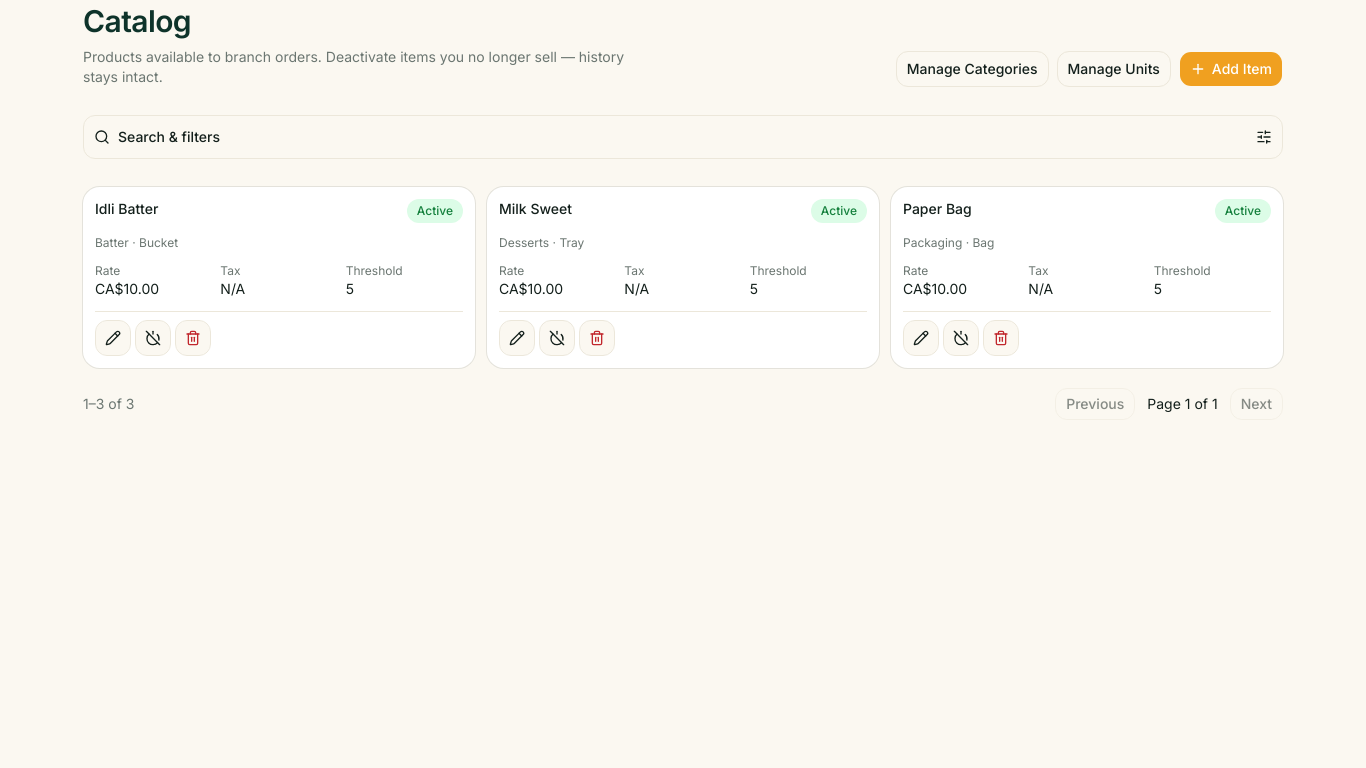
Scenario: compact catalog cards keep direct actions and filter state at 390px
Expected: the heading "Idli Batter" is shown, [95, 198, 158, 218]
Expected: the number of buttons named "Edit" is 3, [95, 320, 131, 356]; [499, 320, 535, 356]; [903, 320, 939, 356]
Click the button "Search & filters" at (169, 136), box [83, 114, 1283, 158]
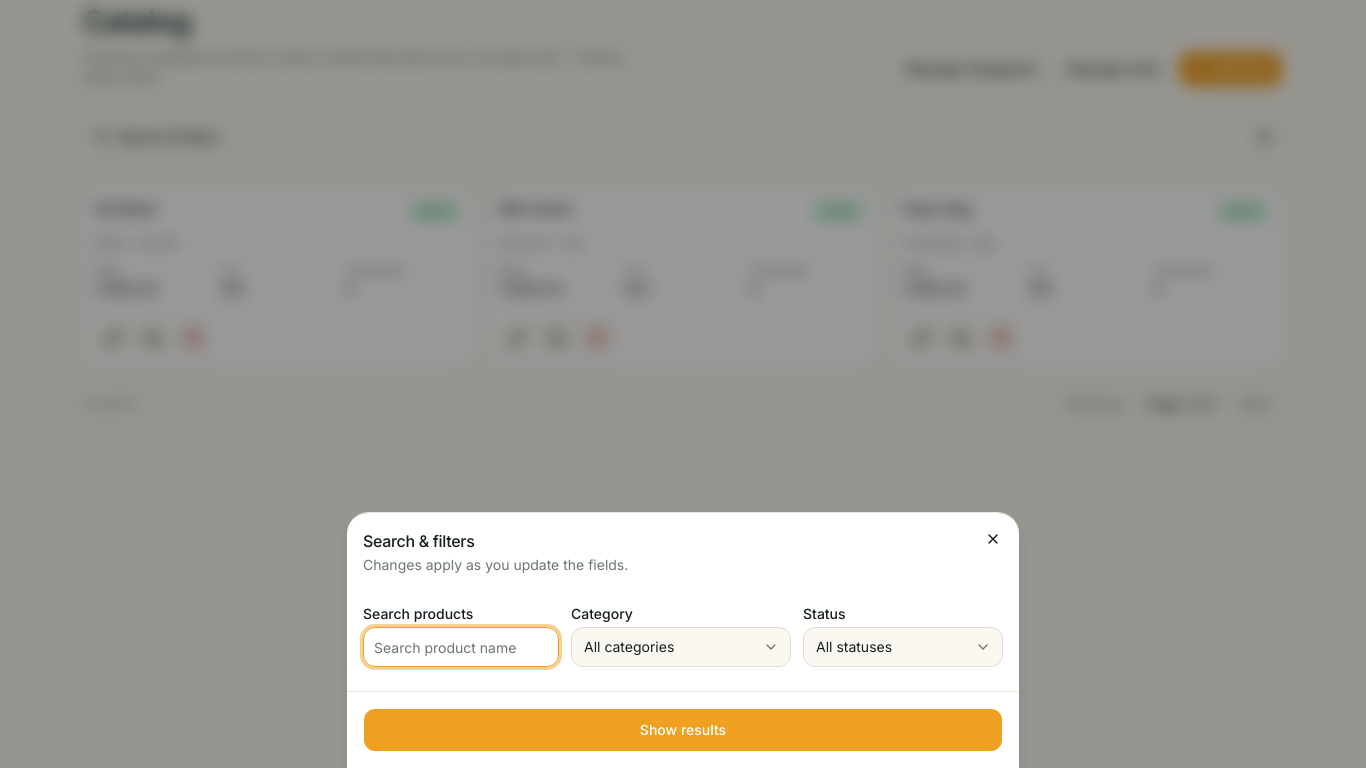
Type "batter" into the search field labelled "Search products" at (461, 647), box [363, 627, 559, 667]
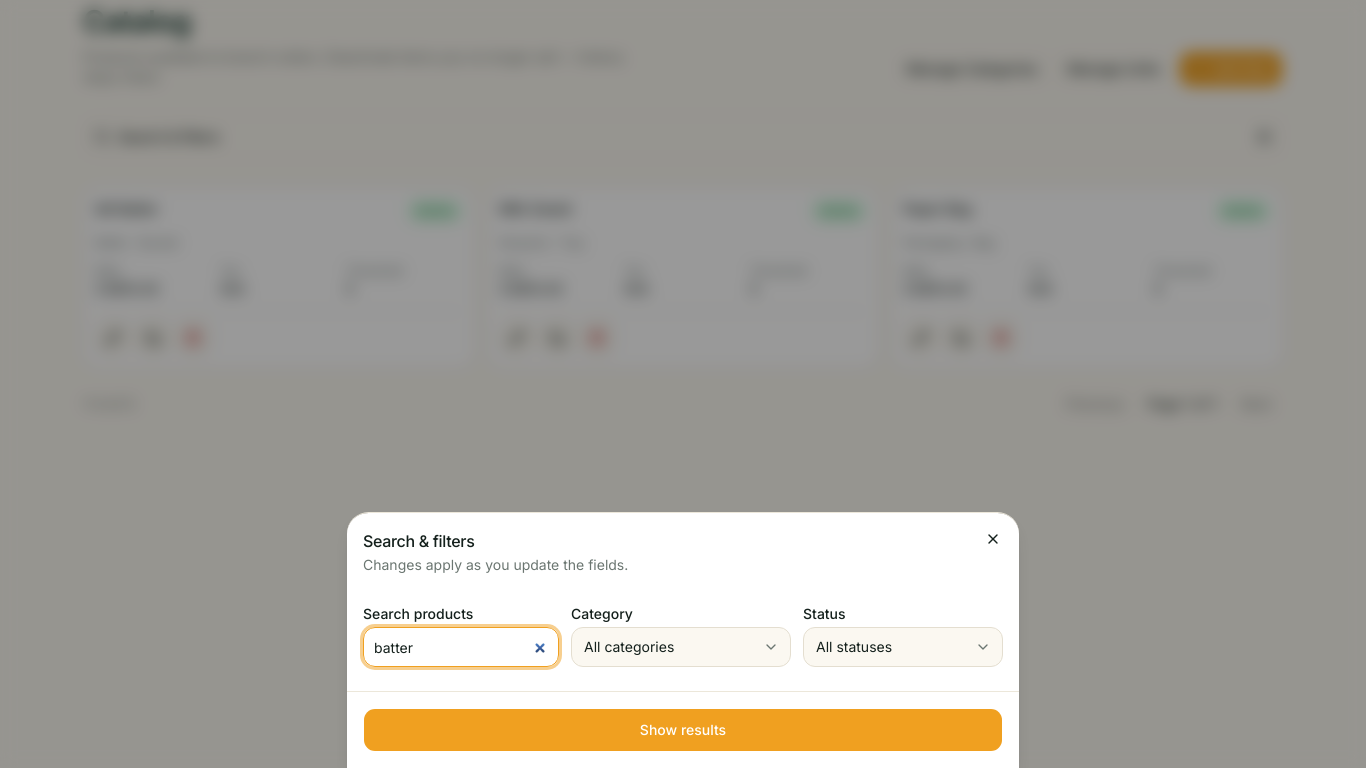
Click the button "Show results" at (683, 730), box [363, 708, 1003, 752]
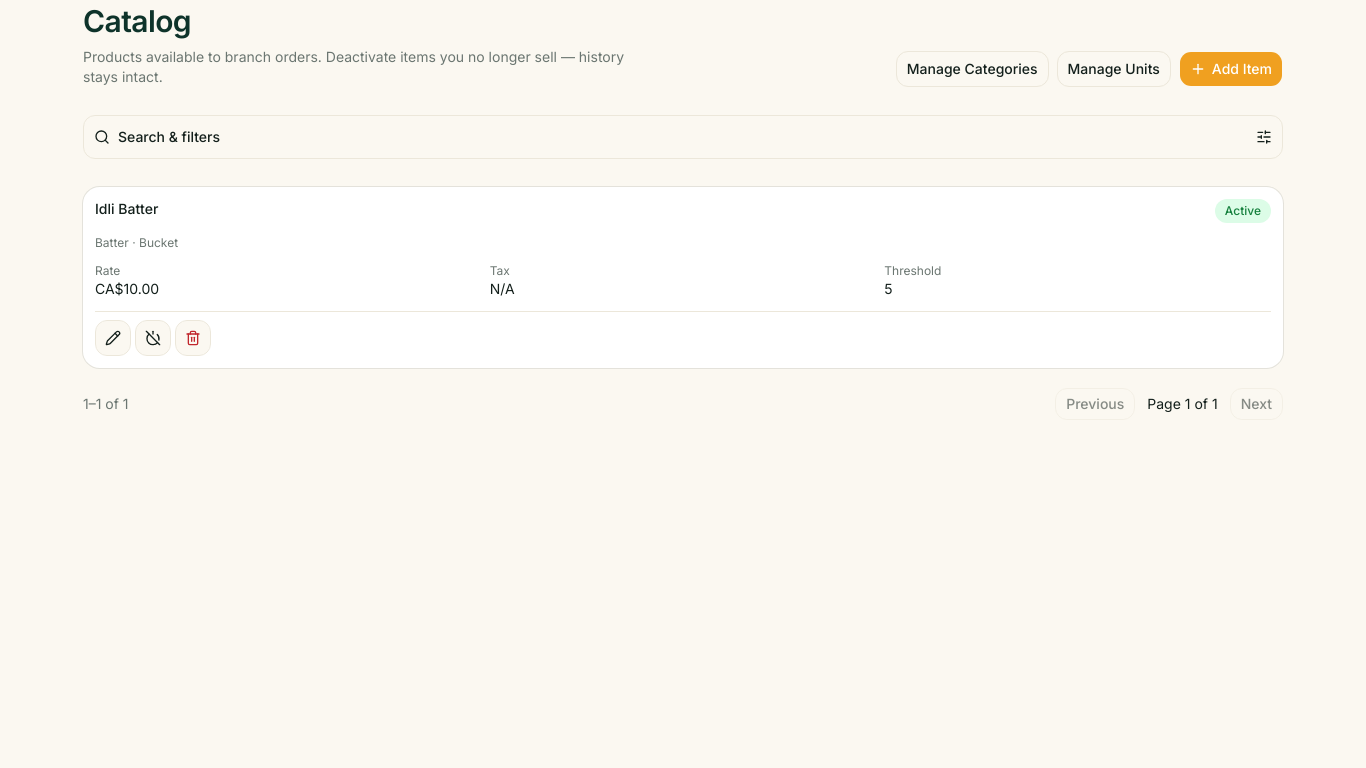
Expected: the heading "Paper Bag" is gone
Click the button "Search & filters" at (169, 136), box [83, 114, 1283, 158]
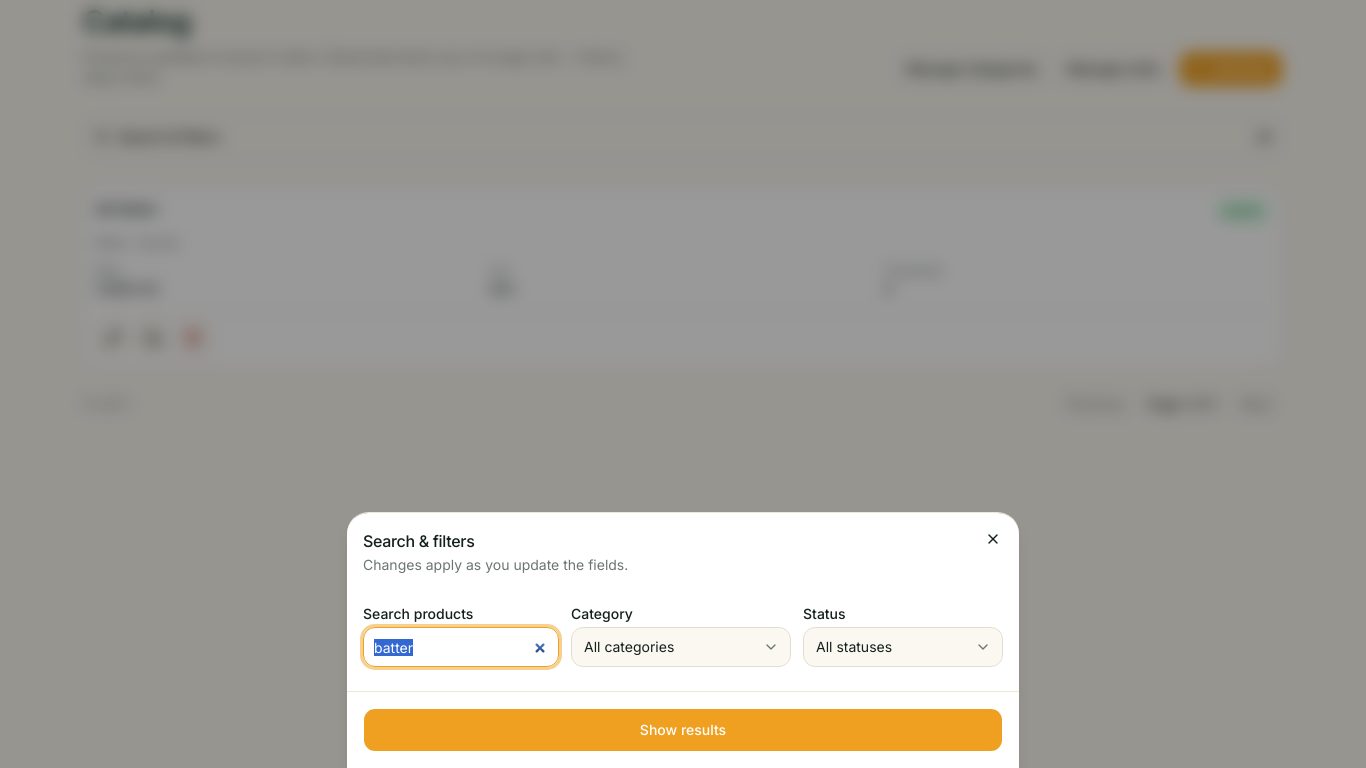
Expected: the search field labelled "Search products" holds "batter", [363, 627, 559, 667]
